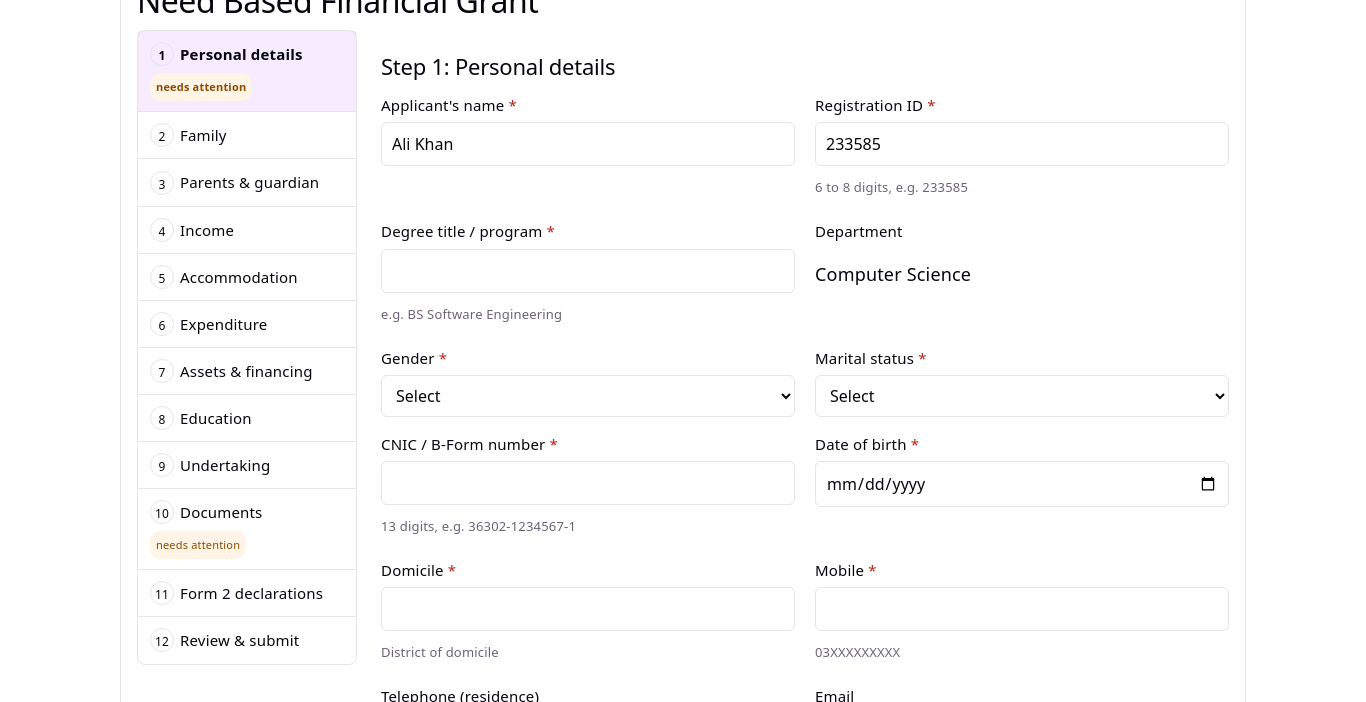
Scenario: saving successfully shows a confirmation and keeps the server values
Step 1. Type "3630212345671" into the field labelled "CNIC / B-Form number *" → (588, 483), box [381,461,795,505]
(page scrolled)
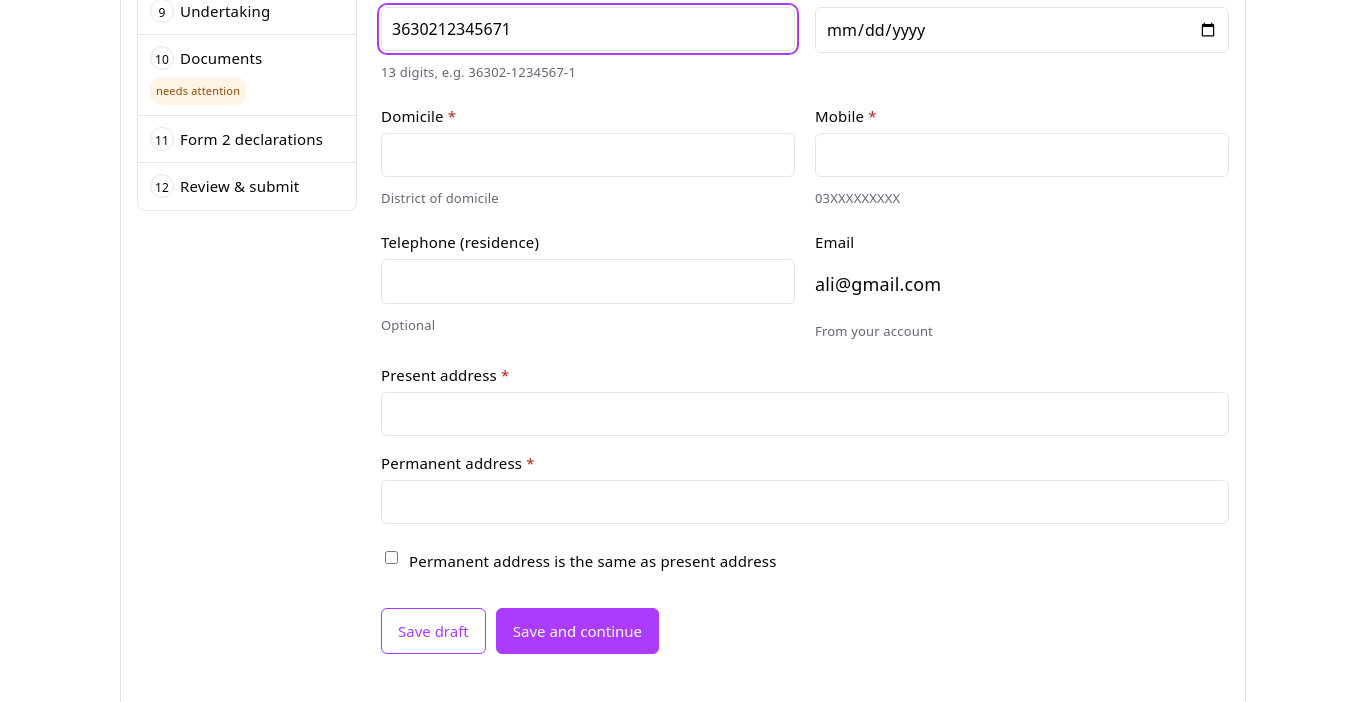
Step 2. Click the button "Save draft" → (433, 631), box [381,608,486,654]
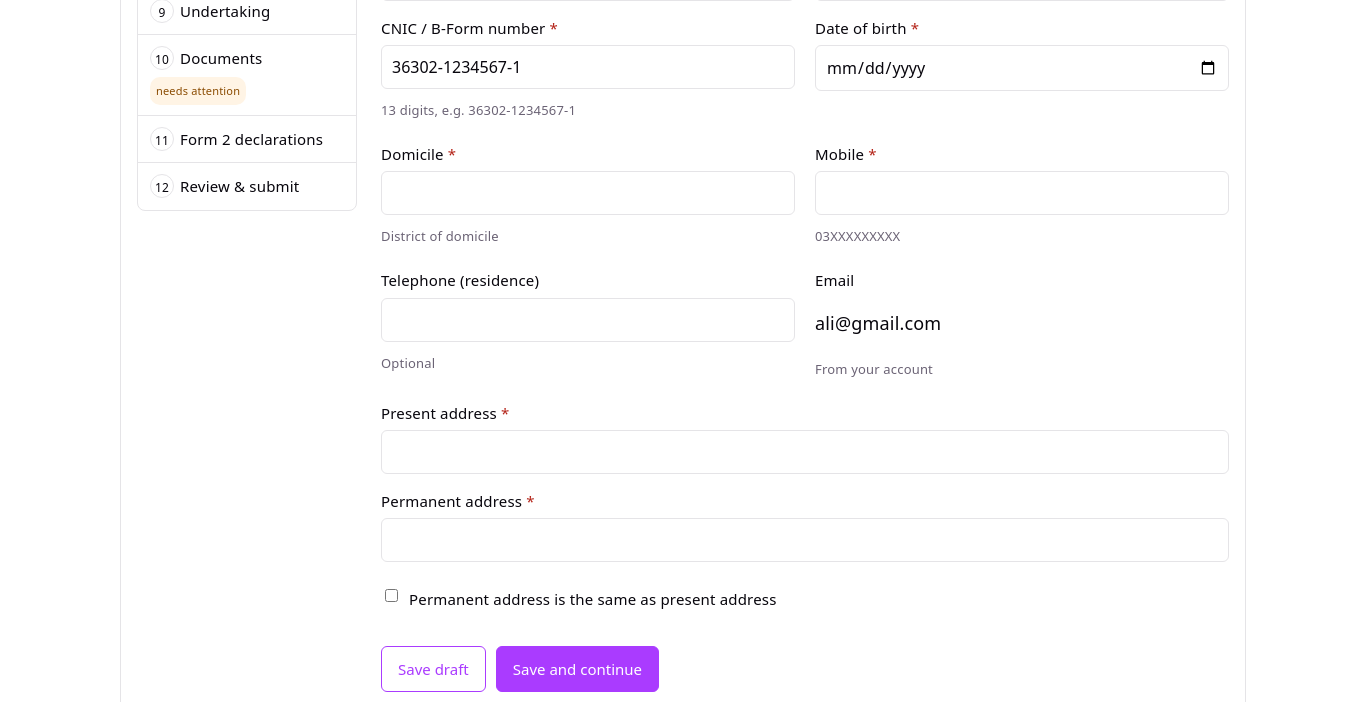
Now the field labelled "CNIC / B-Form number *" holds "36302-1234567-1", box [381,45,795,89]
